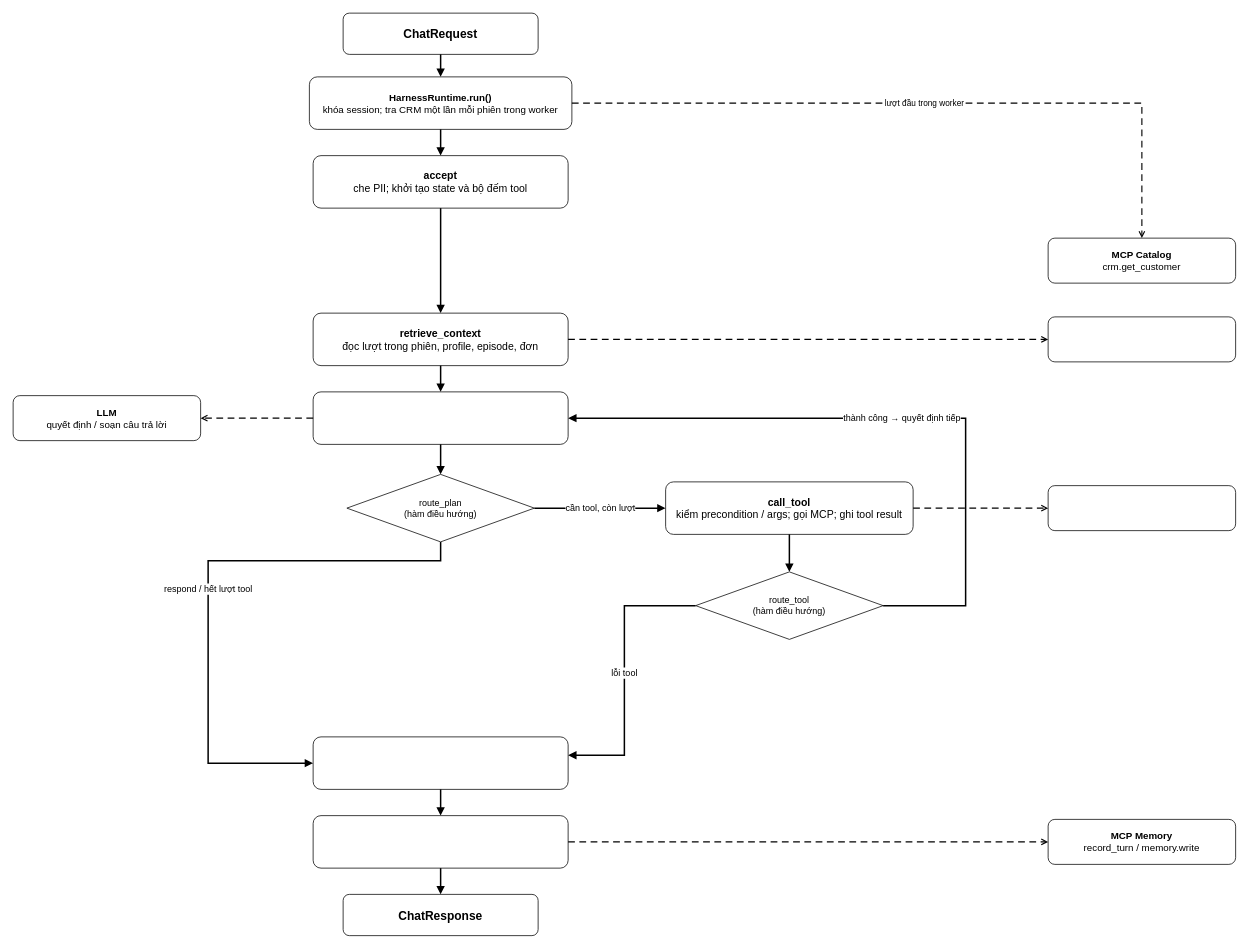
Some shapes in this 1249 by 949 pixel diagram are drawn without their labels. The shapes that lost their labels are listed below. From the top down, each one's centre as x and y in pixels, then its label:
the point at 1141,339: MCP Memory memory.read
the point at 440,417: plan LLM chọn respond / tool; code ép điều kiện giá
the point at 1141,508: MCP Catalog / Order / Memory
the point at 440,762: verify guardrail; thử sửa bằng LLM; fallback nếu cần
the point at 440,841: persist ghi lượt khách + câu trả lời vào memory
